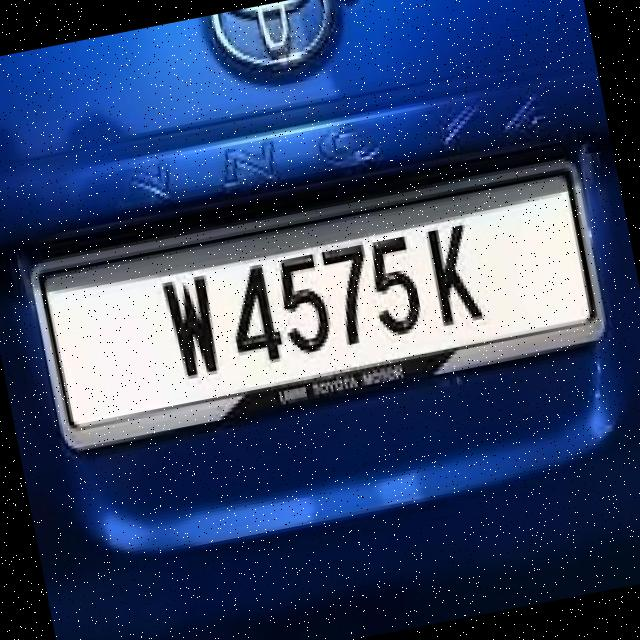License_Plate: (31, 162, 613, 453)
